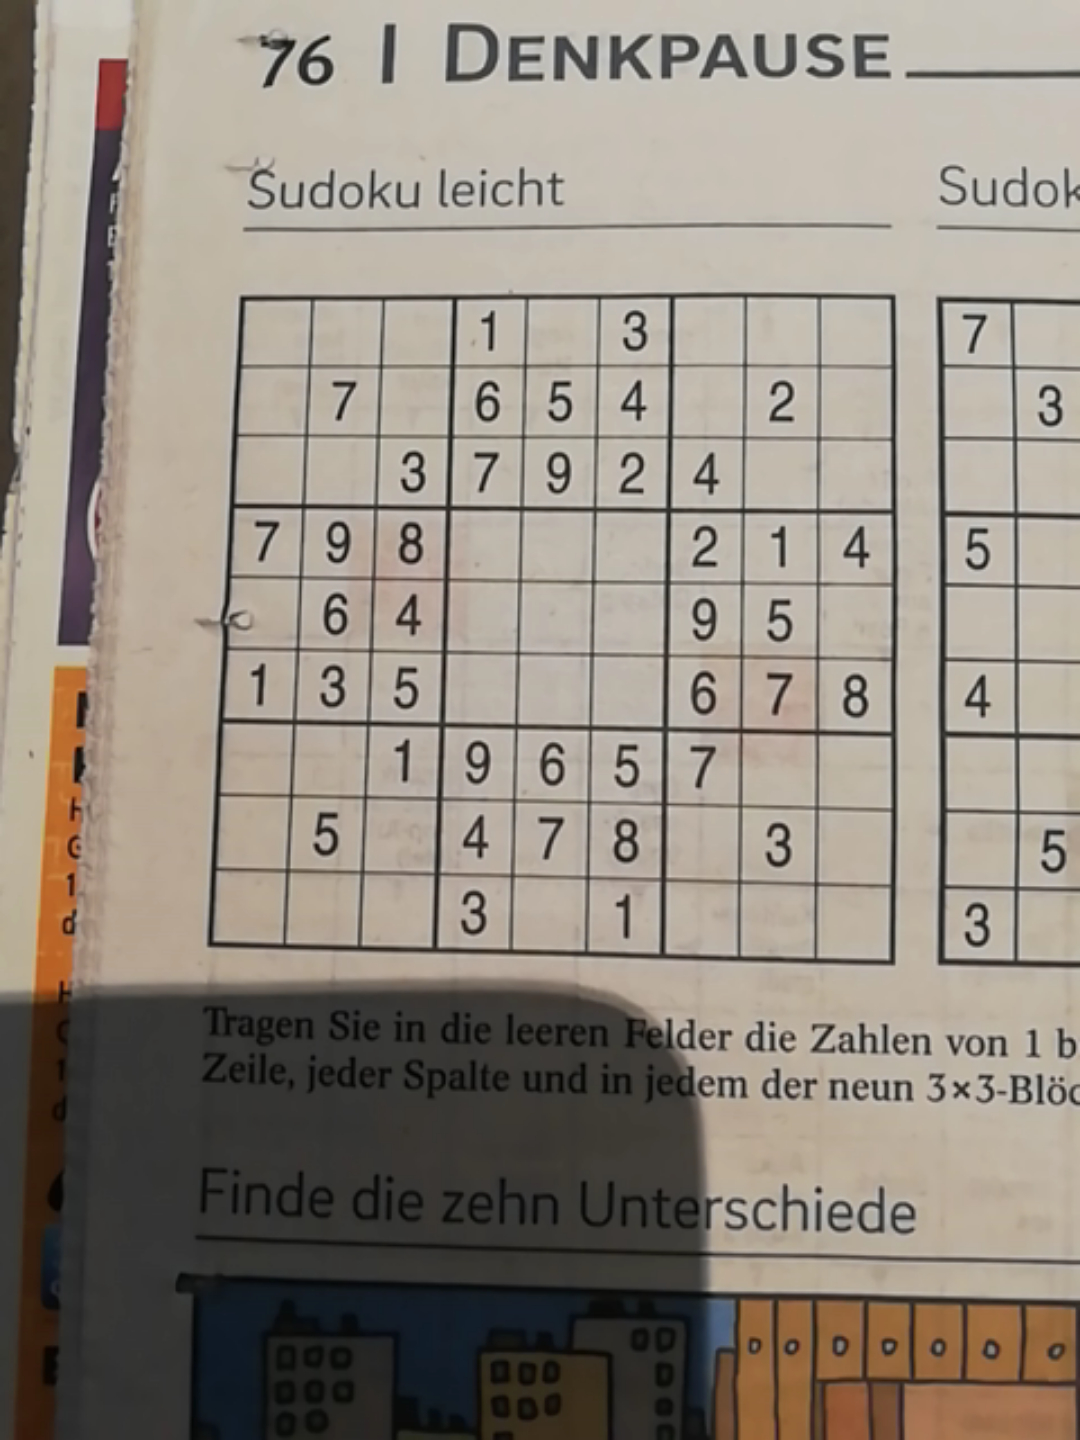sudoku: (209, 290, 899, 966)
